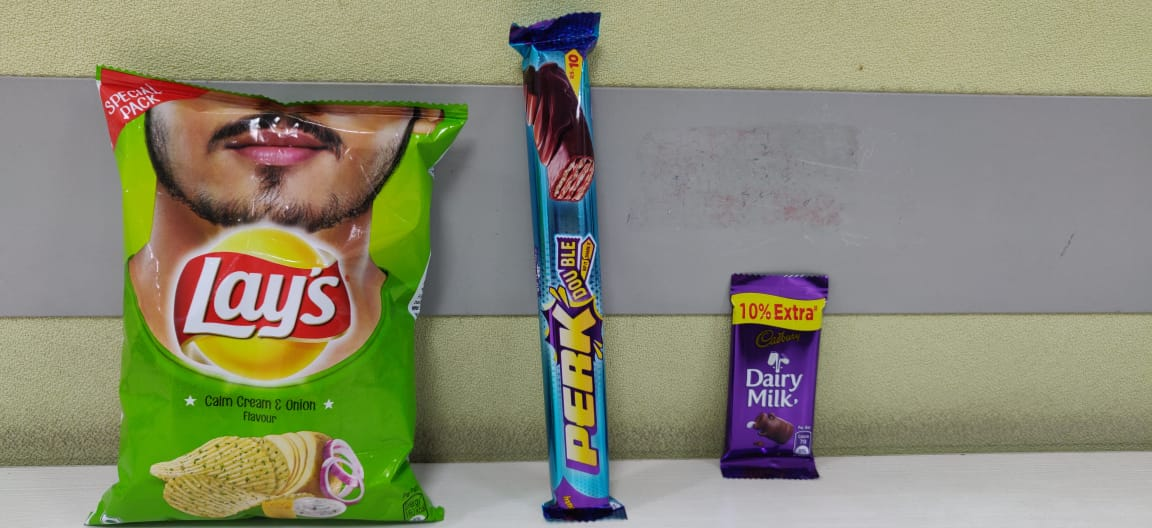dairy milk: (722, 263, 837, 493)
lays chips: (84, 53, 473, 528)
perk: (504, 11, 651, 528)
